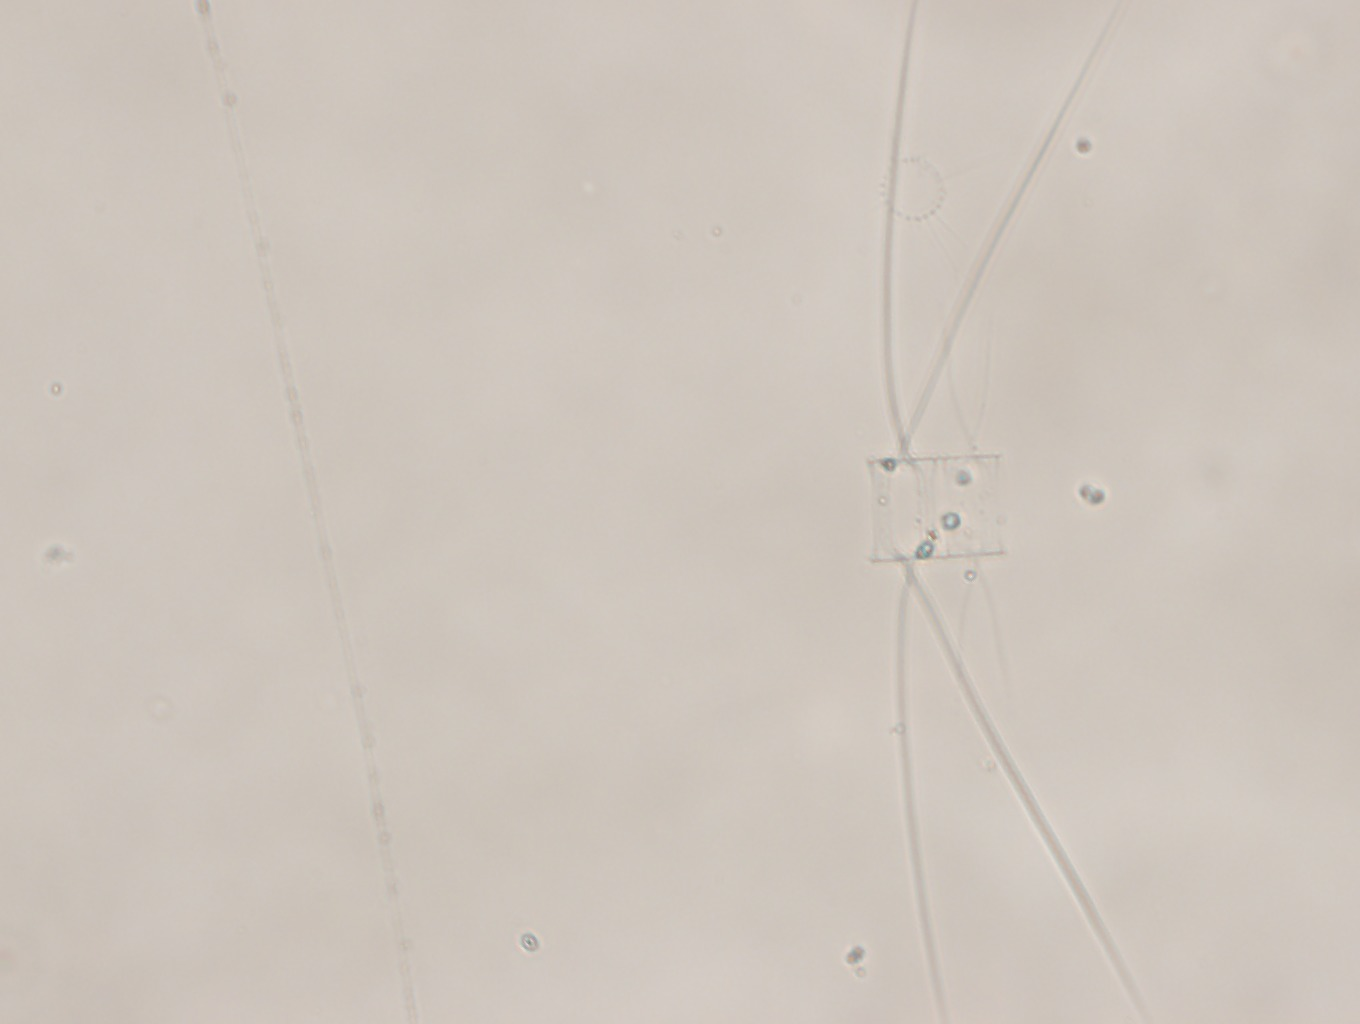chaetoceros: (857, 11, 1170, 1020)
